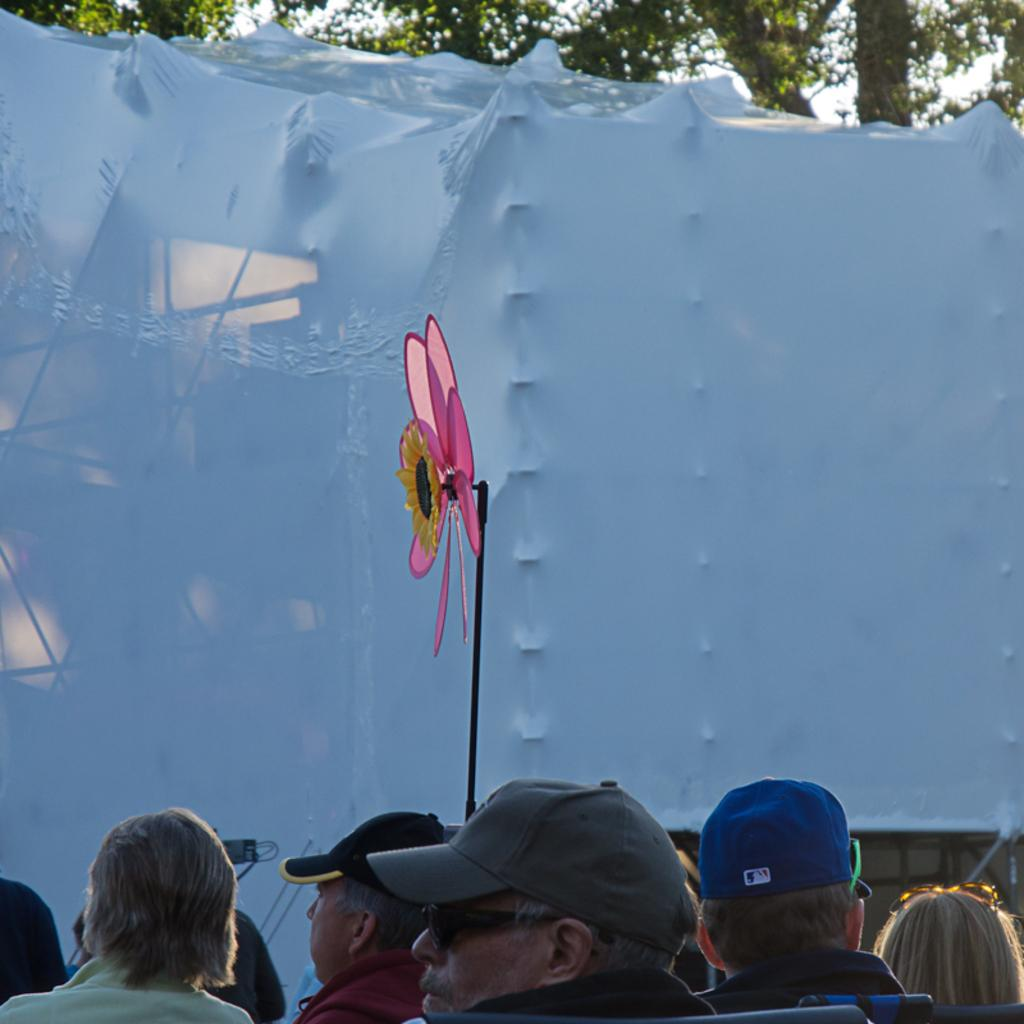Hat: (366, 779, 698, 958), (692, 777, 862, 893), (280, 808, 439, 888)
